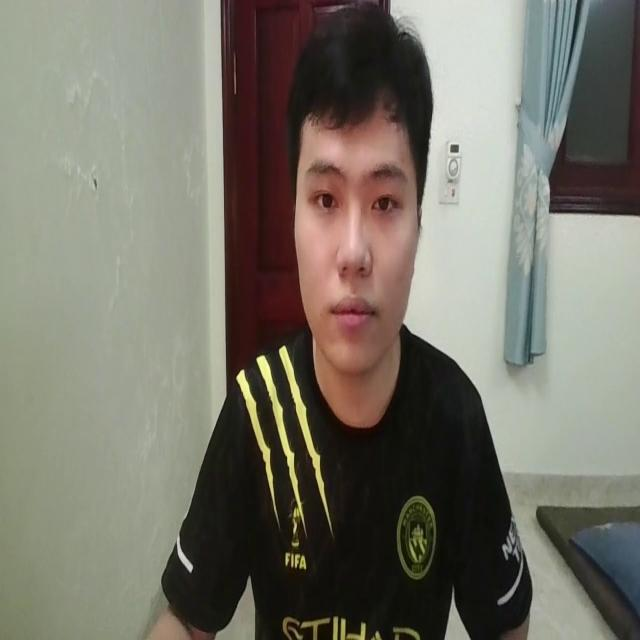student: (126, 2, 528, 640)
